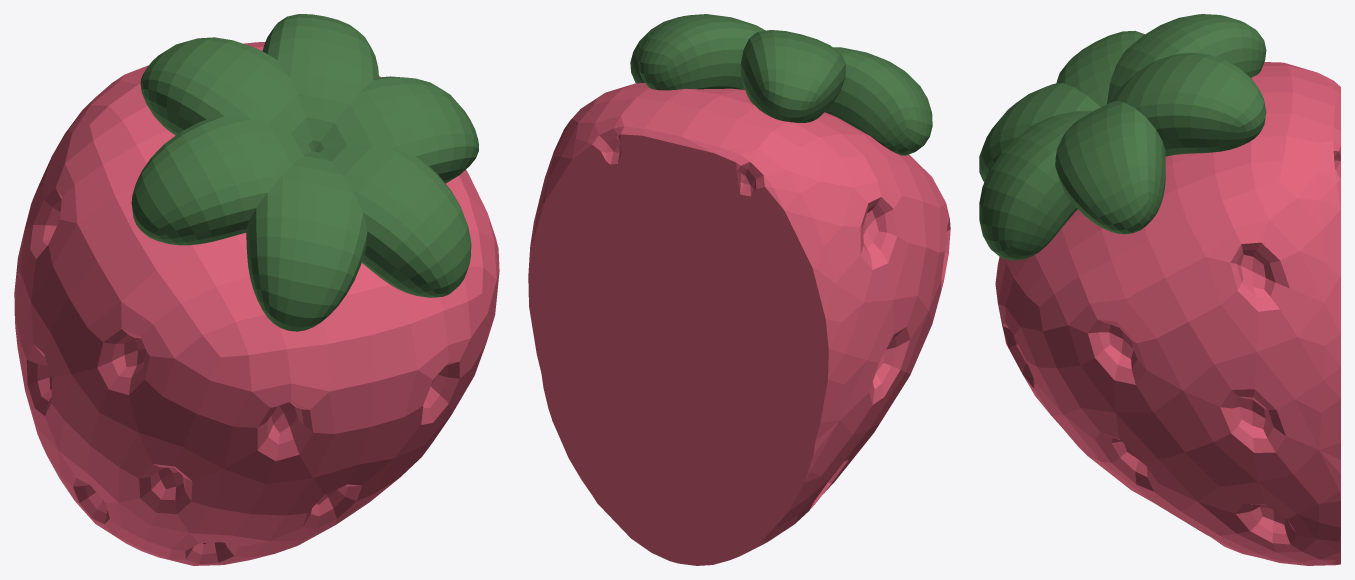
The model's file is topping_strawberry.glb.
3 views of the same model, side by side, from view 1: azimuth 30°, elevation 25°; view 2: azimuth 150°, elevation 25°; view 3: azimuth 270°, elevation 25° (orthographic). The views are drawn at different scales.
Visible parts, largest first — view 1: Plane.271; view 2: Plane.271; view 3: Plane.271.
Part boxes in pixels (x1,y1,x2,y2): Plane.271: (14,14,499,565); Plane.271: (528,14,950,565); Plane.271: (979,14,1340,565).
Bounding box in the file's own units: 6.76 × 8.77 × 5.61.
